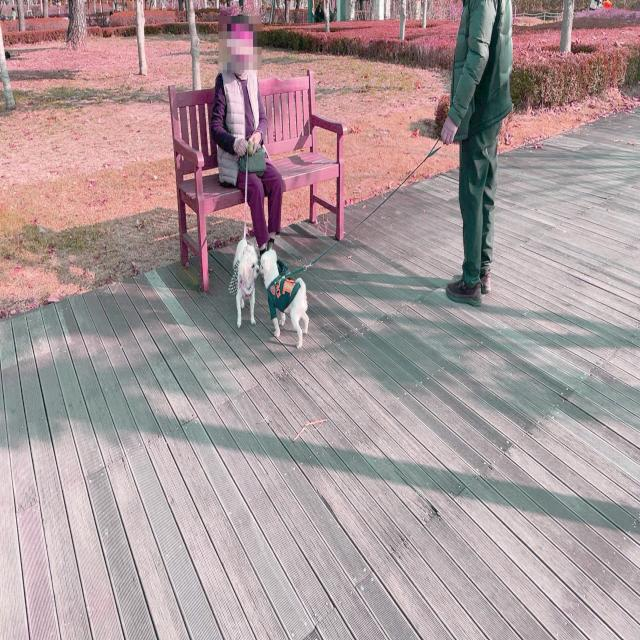Leashed_Dog: (259, 126, 468, 351), (218, 176, 260, 330)
